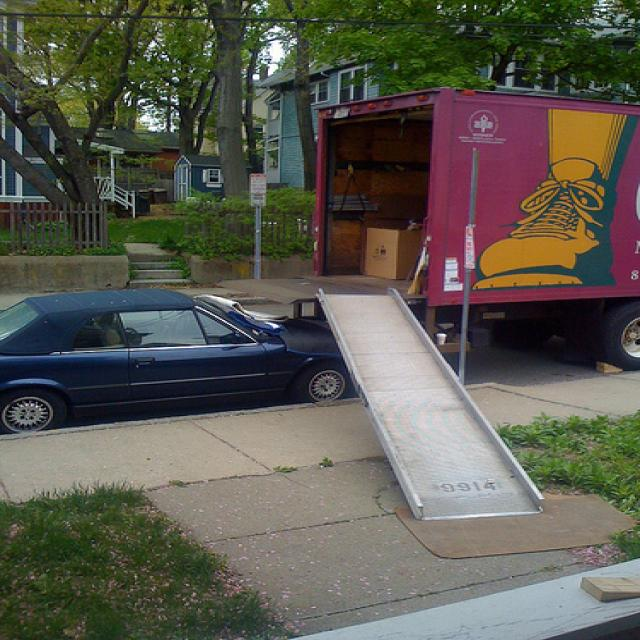car: (1, 288, 349, 436)
